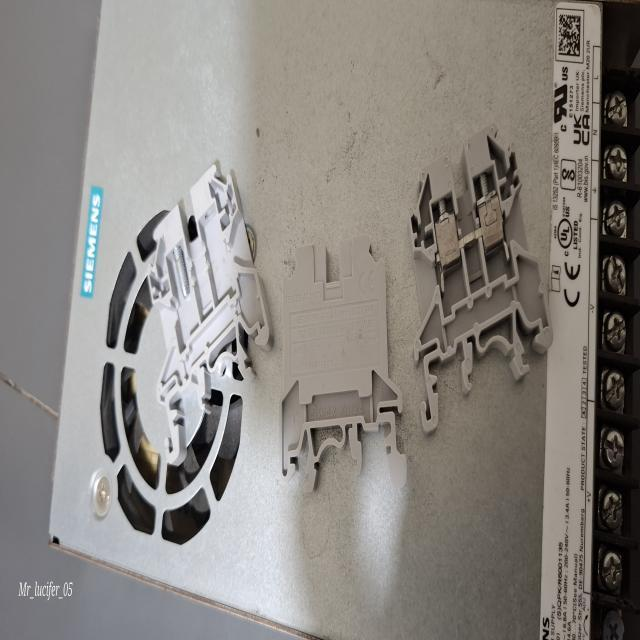Inverted: (258, 216, 406, 524)
Pass: (114, 119, 277, 474), (402, 124, 558, 447)
